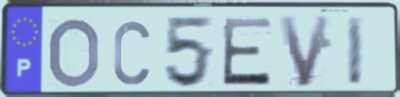5: (163, 15, 217, 90)
C: (111, 18, 152, 87)
E: (220, 15, 275, 88)
I: (344, 14, 367, 89)
O: (46, 16, 102, 90)
V: (276, 13, 334, 90)
